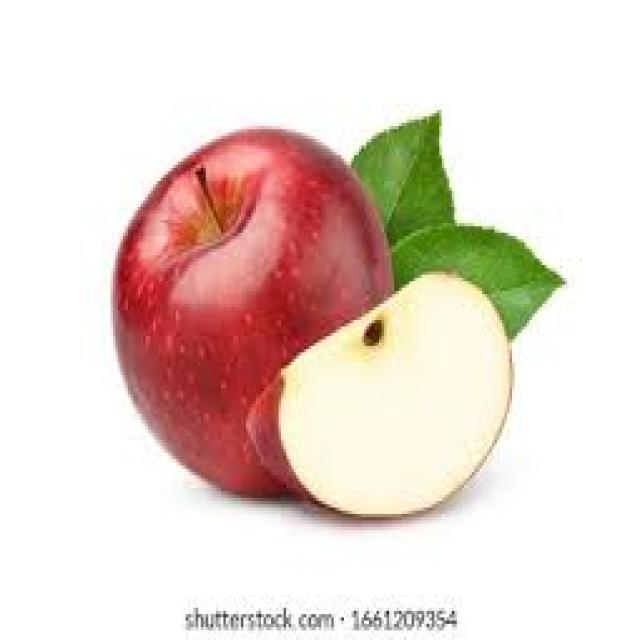apple: (109, 121, 402, 497)
